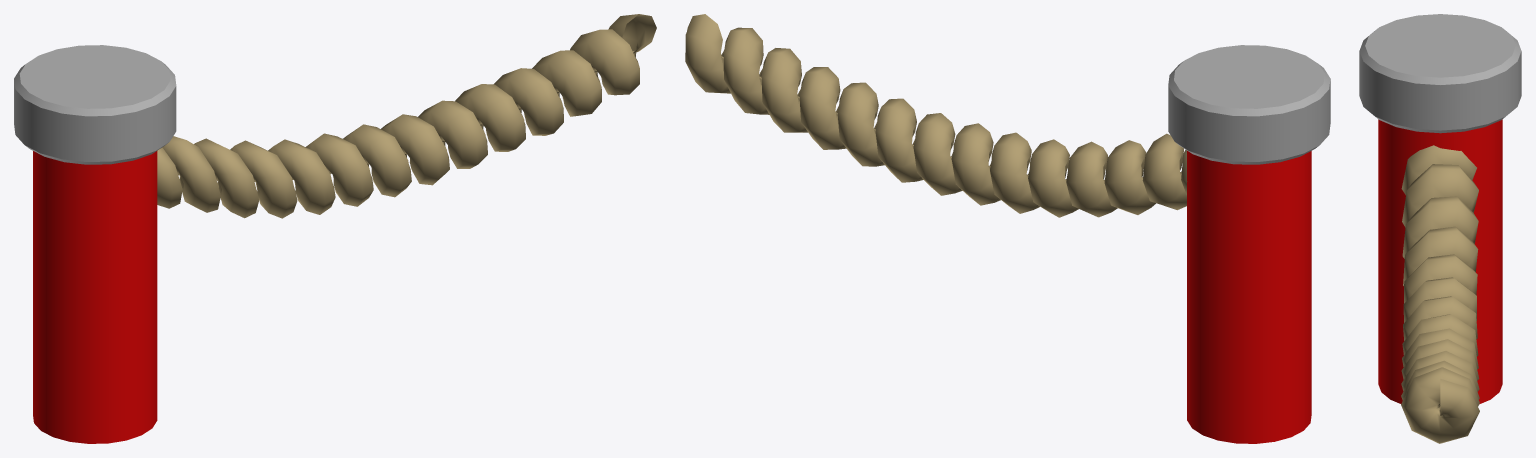
File: RopeFenceHalf.fbx
3 views of the same model, side by side, from view 1: azimuth 30°, elevation 25°; view 2: azimuth 150°, elevation 25°; view 3: azimuth 270°, elevation 25° (orthographic).
Parts seen in each view (by area): view 1: Pole1, Rope; view 2: Pole1, Rope; view 3: Pole1, Rope.
Boxes of the visible parts, box(x1,y1,x2,y2) form: Pole1: box(14, 45, 176, 443); Rope: box(157, 14, 656, 218); Pole1: box(1168, 45, 1330, 443); Rope: box(685, 14, 1187, 217); Pole1: box(1359, 14, 1521, 404); Rope: box(1401, 145, 1479, 443).
Size of the model in its own units: 5.83 by 3 by 1.3.
